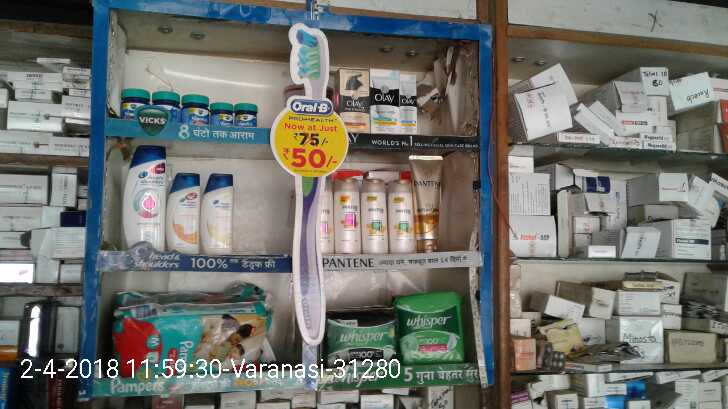vicks: (118, 85, 261, 132)
